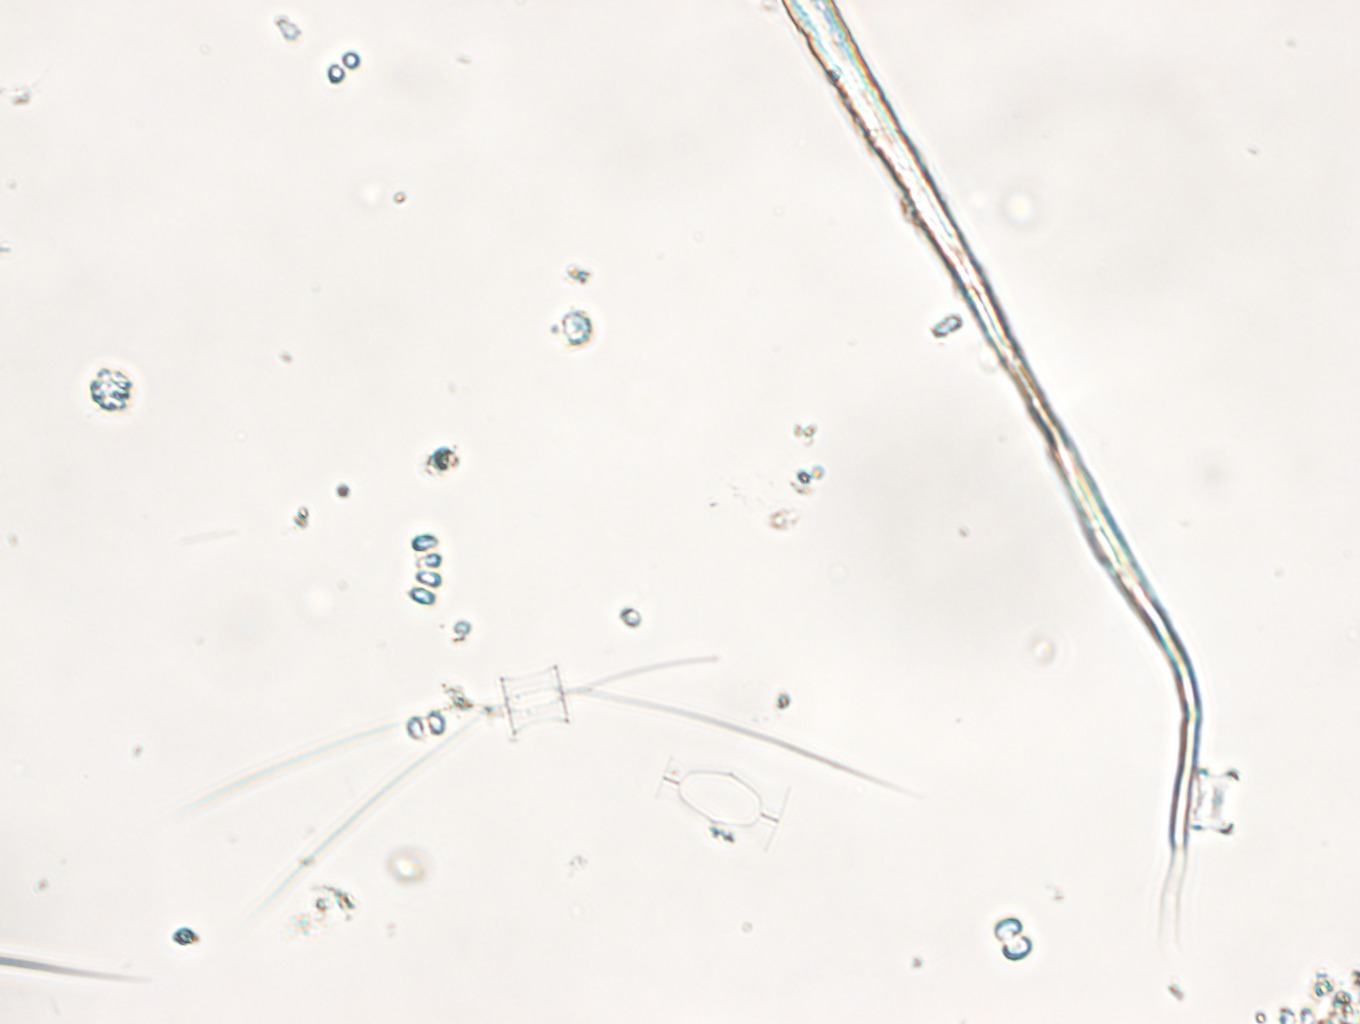chaetoceros: (196, 656, 827, 902)
